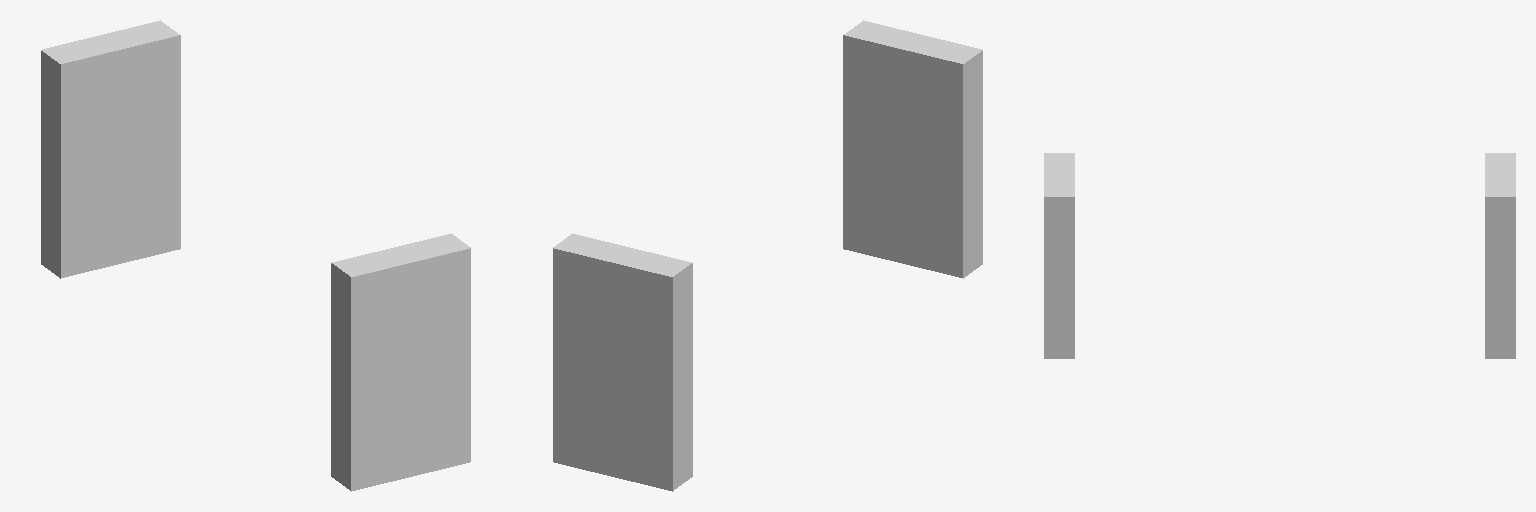
The robot description file, URDF, robot "robotiq_arg2f_85_model":
<?xml version="1.0" ?>
<!-- =================================================================================== -->
<!-- |    This document was autogenerated by xacro from urdf/robotiq_arg2f_85_model.xacro | -->
<!-- |    EDITING THIS FILE BY HAND IS NOT RECOMMENDED                                 | -->
<!-- =================================================================================== -->
<robot name="robotiq_arg2f_85_model">
  <link name="robotiq_arg2f_base_link">
    <inertial>
      <origin rpy="0 0 0" xyz="8.625E-08 -4.6583E-06 0.03145"/>
      <mass value="0.22652"/>
      <inertia ixx="0.00020005" ixy="-4.2442E-10" ixz="-2.9069E-10" iyy="0.00017832" iyz="-3.4402E-08" izz="0.00013478"/>
    </inertial>
    <visual>
      <origin rpy="0 0 0" xyz="0 0 0"/>
      <geometry>
        <mesh filename="package://robotiq_2f_85_gripper_visualization/meshes/visual/robotiq_arg2f_85_base_link.dae" scale="0.001 0.001 0.001"/>
      </geometry>
      <material name="">
        <color rgba="0.1 0.1 0.1 1"/>
      </material>
    </visual>
    <collision>
      <origin rpy="0 0 0" xyz="0 0 0"/>
      <geometry>
        <mesh filename="package://robotiq_2f_85_gripper_visualization/meshes/collision/robotiq_arg2f_base_link.stl"/>
      </geometry>
    </collision>
  </link>
  <link name="left_outer_knuckle">
    <!--<inertial>
        <origin xyz="-0.000200000000003065 0.0199435877845359 0.0292245259211331" rpy="0 0 0" />
        <mass value="0.00853198276973456" />
        <inertia ixx="2.89328108496468E-06" ixy="-1.57935047237397E-19" ixz="-1.93980378593255E-19" iyy="1.86719750325683E-06" iyz="-1.21858577871576E-06" izz="1.21905238907251E-06" />
        </inertial> -->
    <visual>
      <origin rpy="0 0 0" xyz="0 0 0"/>
      <geometry>
        <mesh filename="package://robotiq_2f_85_gripper_visualization/meshes/visual/robotiq_arg2f_85_outer_knuckle.dae" scale="0.001 0.001 0.001"/>
      </geometry>
      <material name="">
        <color rgba="0.792156862745098 0.819607843137255 0.933333333333333 1"/>
      </material>
    </visual>
    <collision>
      <origin rpy="0 0 0" xyz="0 0 0"/>
      <geometry>
        <mesh filename="package://robotiq_2f_85_gripper_visualization/meshes/collision/robotiq_arg2f_85_outer_knuckle.dae" scale="0.001 0.001 0.001"/>
      </geometry>
    </collision>
  </link>
  <link name="left_outer_finger">
    <!--<inertial>
        <origin xyz="0.00030115855001899 0.0373907951953854 -0.0208027427000385" rpy="0 0 0" />
        <mass value="0.022614240507152" />
        <inertia ixx="1.52518312458174E-05" ixy="9.76583423954399E-10" ixz="-5.43838577022588E-10" iyy="6.17694243867776E-06" iyz="6.78636130740228E-06" izz="1.16494917907219E-05" />
        </inertial> -->
    <visual>
      <origin rpy="0 0 0" xyz="0 0 0"/>
      <geometry>
        <mesh filename="package://robotiq_2f_85_gripper_visualization/meshes/visual/robotiq_arg2f_85_outer_finger.dae" scale="0.001 0.001 0.001"/>
      </geometry>
      <material name="">
        <color rgba="0.1 0.1 0.1 1"/>
      </material>
    </visual>
    <collision>
      <origin rpy="0 0 0" xyz="0 0 0"/>
      <geometry>
        <mesh filename="package://robotiq_2f_85_gripper_visualization/meshes/collision/robotiq_arg2f_85_outer_finger.dae" scale="0.001 0.001 0.001"/>
      </geometry>
    </collision>
  </link>
  <link name="left_inner_finger">
    <!--<inertial>
        <origin xyz="0.000299999999999317 0.0160078233491243 -0.0136945669206257" rpy="0 0 0" />
        <mass value="0.0104003125914103" />
        <inertia ixx="2.71909453810972E-06" ixy="1.35402465472579E-21" ixz="-7.1817349065269E-22" iyy="7.69100314106116E-07" iyz="6.74715432769696E-07" izz="2.30315190420171E-06" />
        </inertial> -->
    <visual>
      <origin rpy="0 0 0" xyz="0 0 0"/>
      <geometry>
        <mesh filename="package://robotiq_2f_85_gripper_visualization/meshes/visual/robotiq_arg2f_85_inner_finger.dae" scale="0.001 0.001 0.001"/>
      </geometry>
      <material name="">
        <color rgba="0.1 0.1 0.1 1"/>
      </material>
    </visual>
    <collision>
      <origin rpy="0 0 0" xyz="0 0 0"/>
      <geometry>
        <mesh filename="package://robotiq_2f_85_gripper_visualization/meshes/collision/robotiq_arg2f_85_inner_finger.dae" scale="0.001 0.001 0.001"/>
      </geometry>
    </collision>
  </link>
  <link name="left_inner_finger_pad">
    <visual>
      <origin rpy="0 0 0" xyz="0 0 0"/>
      <geometry>
        <box size="0.022 0.00635 0.0375"/>
      </geometry>
      <material name="">
        <color rgba="0.9 0.9 0.9 1"/>
      </material>
    </visual>
    <collision>
      <origin rpy="0 0 0" xyz="0 0 0"/>
      <geometry>
        <box size="0.022 0.00635 0.0375"/>
      </geometry>
      <material name="">
        <color rgba="0.9 0.0 0.0 1"/>
      </material>
    </collision>
  </link>
  <link name="left_inner_knuckle">
    <!--<inertial>
        <origin xyz="0.000123011831763771 0.0507850843201817 0.00103968640075166" rpy="0 0 0" />
       <mass value="0.0271177346495152" />
        <inertia ixx="2.61910379223783E-05" ixy="-2.43616858946494E-07" ixz="-6.37789906117123E-09" iyy="2.8270243746167E-06" iyz="-5.37200748039765E-07" izz="2.83695868220296E-05" />
        </inertial> -->
    <visual>
      <origin rpy="0 0 0" xyz="0 0 0"/>
      <geometry>
        <mesh filename="package://robotiq_2f_85_gripper_visualization/meshes/visual/robotiq_arg2f_85_inner_knuckle.dae" scale="0.001 0.001 0.001"/>
      </geometry>
      <material name="">
        <color rgba="0.1 0.1 0.1 1"/>
      </material>
    </visual>
    <collision>
      <origin rpy="0 0 0" xyz="0 0 0"/>
      <geometry>
        <mesh filename="package://robotiq_2f_85_gripper_visualization/meshes/collision/robotiq_arg2f_85_inner_knuckle.dae" scale="0.001 0.001 0.001"/>
      </geometry>
    </collision>
  </link>
  <link name="right_outer_knuckle">
    <!--<inertial>
        <origin xyz="-0.000200000000003065 0.0199435877845359 0.0292245259211331" rpy="0 0 0" />
        <mass value="0.00853198276973456" />
        <inertia ixx="2.89328108496468E-06" ixy="-1.57935047237397E-19" ixz="-1.93980378593255E-19" iyy="1.86719750325683E-06" iyz="-1.21858577871576E-06" izz="1.21905238907251E-06" />
        </inertial> -->
    <visual>
      <origin rpy="0 0 0" xyz="0 0 0"/>
      <geometry>
        <mesh filename="package://robotiq_2f_85_gripper_visualization/meshes/visual/robotiq_arg2f_85_outer_knuckle.dae" scale="0.001 0.001 0.001"/>
      </geometry>
      <material name="">
        <color rgba="0.792156862745098 0.819607843137255 0.933333333333333 1"/>
      </material>
    </visual>
    <collision>
      <origin rpy="0 0 0" xyz="0 0 0"/>
      <geometry>
        <mesh filename="package://robotiq_2f_85_gripper_visualization/meshes/collision/robotiq_arg2f_85_outer_knuckle.dae" scale="0.001 0.001 0.001"/>
      </geometry>
    </collision>
  </link>
  <link name="right_outer_finger">
    <!--<inertial>
        <origin xyz="0.00030115855001899 0.0373907951953854 -0.0208027427000385" rpy="0 0 0" />
        <mass value="0.022614240507152" />
        <inertia ixx="1.52518312458174E-05" ixy="9.76583423954399E-10" ixz="-5.43838577022588E-10" iyy="6.17694243867776E-06" iyz="6.78636130740228E-06" izz="1.16494917907219E-05" />
        </inertial> -->
    <visual>
      <origin rpy="0 0 0" xyz="0 0 0"/>
      <geometry>
        <mesh filename="package://robotiq_2f_85_gripper_visualization/meshes/visual/robotiq_arg2f_85_outer_finger.dae" scale="0.001 0.001 0.001"/>
      </geometry>
      <material name="">
        <color rgba="0.1 0.1 0.1 1"/>
      </material>
    </visual>
    <collision>
      <origin rpy="0 0 0" xyz="0 0 0"/>
      <geometry>
        <mesh filename="package://robotiq_2f_85_gripper_visualization/meshes/collision/robotiq_arg2f_85_outer_finger.dae" scale="0.001 0.001 0.001"/>
      </geometry>
    </collision>
  </link>
  <link name="right_inner_finger">
    <!--<inertial>
        <origin xyz="0.000299999999999317 0.0160078233491243 -0.0136945669206257" rpy="0 0 0" />
        <mass value="0.0104003125914103" />
        <inertia ixx="2.71909453810972E-06" ixy="1.35402465472579E-21" ixz="-7.1817349065269E-22" iyy="7.69100314106116E-07" iyz="6.74715432769696E-07" izz="2.30315190420171E-06" />
        </inertial> -->
    <visual>
      <origin rpy="0 0 0" xyz="0 0 0"/>
      <geometry>
        <mesh filename="package://robotiq_2f_85_gripper_visualization/meshes/visual/robotiq_arg2f_85_inner_finger.dae" scale="0.001 0.001 0.001"/>
      </geometry>
      <material name="">
        <color rgba="0.1 0.1 0.1 1"/>
      </material>
    </visual>
    <collision>
      <origin rpy="0 0 0" xyz="0 0 0"/>
      <geometry>
        <mesh filename="package://robotiq_2f_85_gripper_visualization/meshes/collision/robotiq_arg2f_85_inner_finger.dae" scale="0.001 0.001 0.001"/>
      </geometry>
    </collision>
  </link>
  <link name="right_inner_finger_pad">
    <visual>
      <origin rpy="0 0 0" xyz="0 0 0"/>
      <geometry>
        <box size="0.022 0.00635 0.0375"/>
      </geometry>
      <material name="">
        <color rgba="0.9 0.9 0.9 1"/>
      </material>
    </visual>
    <collision>
      <origin rpy="0 0 0" xyz="0 0 0"/>
      <geometry>
        <box size="0.022 0.00635 0.0375"/>
      </geometry>
      <material name="">
        <color rgba="0.9 0.0 0.0 1"/>
      </material>
    </collision>
  </link>
  <link name="right_inner_knuckle">
    <!--<inertial>
        <origin xyz="0.000123011831763771 0.0507850843201817 0.00103968640075166" rpy="0 0 0" />
       <mass value="0.0271177346495152" />
        <inertia ixx="2.61910379223783E-05" ixy="-2.43616858946494E-07" ixz="-6.37789906117123E-09" iyy="2.8270243746167E-06" iyz="-5.37200748039765E-07" izz="2.83695868220296E-05" />
        </inertial> -->
    <visual>
      <origin rpy="0 0 0" xyz="0 0 0"/>
      <geometry>
        <mesh filename="package://robotiq_2f_85_gripper_visualization/meshes/visual/robotiq_arg2f_85_inner_knuckle.dae" scale="0.001 0.001 0.001"/>
      </geometry>
      <material name="">
        <color rgba="0.1 0.1 0.1 1"/>
      </material>
    </visual>
    <collision>
      <origin rpy="0 0 0" xyz="0 0 0"/>
      <geometry>
        <mesh filename="package://robotiq_2f_85_gripper_visualization/meshes/collision/robotiq_arg2f_85_inner_knuckle.dae" scale="0.001 0.001 0.001"/>
      </geometry>
    </collision>
  </link>
  <joint name="finger_joint" type="revolute">
    <origin rpy="0 0 3.141592653589793" xyz="0 -0.0306011 0.054904"/>
    <parent link="robotiq_arg2f_base_link"/>
    <child link="left_outer_knuckle"/>
    <axis xyz="1 0 0"/>
    <limit effort="1000" lower="0" upper="0.8" velocity="2.0"/>
  </joint>
  <joint name="left_outer_finger_joint" type="fixed">
    <origin rpy="0 0 0" xyz="0 0.0315 -0.0041"/>
    <parent link="left_outer_knuckle"/>
    <child link="left_outer_finger"/>
    <axis xyz="1 0 0"/>
  </joint>
  <joint name="left_inner_knuckle_joint" type="revolute">
    <!-- <origin xyz="0 ${reflect * -0.0127} 0.06142" rpy="${pi / 2 + .725} 0 ${(reflect - 1) * pi / 2}" /> -->
    <origin rpy="0 0 3.141592653589793" xyz="0 -0.0127 0.06142"/>
    <parent link="robotiq_arg2f_base_link"/>
    <child link="left_inner_knuckle"/>
    <axis xyz="1 0 0"/>
    <limit effort="1000" lower="0" upper="0.8757" velocity="2.0"/>
    <mimic joint="finger_joint" multiplier="1" offset="0"/>
  </joint>
  <joint name="left_inner_finger_joint" type="revolute">
    <origin rpy="0 0 0" xyz="0 0.0061 0.0471"/>
    <parent link="left_outer_finger"/>
    <child link="left_inner_finger"/>
    <axis xyz="1 0 0"/>
    <limit effort="1000" lower="0" upper="0.8757" velocity="2.0"/>
    <mimic joint="finger_joint" multiplier="-1" offset="0"/>
  </joint>
  <joint name="left_inner_finger_pad_joint" type="fixed">
    <origin rpy="0 0 0" xyz="0 -0.0220203446692936 0.03242"/>
    <parent link="left_inner_finger"/>
    <child link="left_inner_finger_pad"/>
    <axis xyz="0 0 1"/>
  </joint>
  <joint name="right_outer_knuckle_joint" type="revolute">
    <origin rpy="0 0 0" xyz="0 0.0306011 0.054904"/>
    <parent link="robotiq_arg2f_base_link"/>
    <child link="right_outer_knuckle"/>
    <axis xyz="1 0 0"/>
    <limit effort="1000" lower="0" upper="0.81" velocity="2.0"/>
    <mimic joint="finger_joint" multiplier="1" offset="0"/>
  </joint>
  <joint name="right_outer_finger_joint" type="fixed">
    <origin rpy="0 0 0" xyz="0 0.0315 -0.0041"/>
    <parent link="right_outer_knuckle"/>
    <child link="right_outer_finger"/>
    <axis xyz="1 0 0"/>
  </joint>
  <joint name="right_inner_knuckle_joint" type="revolute">
    <!-- <origin xyz="0 ${reflect * -0.0127} 0.06142" rpy="${pi / 2 + .725} 0 ${(reflect - 1) * pi / 2}" /> -->
    <origin rpy="0 0 0.0" xyz="0 0.0127 0.06142"/>
    <parent link="robotiq_arg2f_base_link"/>
    <child link="right_inner_knuckle"/>
    <axis xyz="1 0 0"/>
    <limit effort="1000" lower="0" upper="0.8757" velocity="2.0"/>
    <mimic joint="finger_joint" multiplier="1" offset="0"/>
  </joint>
  <joint name="right_inner_finger_joint" type="revolute">
    <origin rpy="0 0 0" xyz="0 0.0061 0.0471"/>
    <parent link="right_outer_finger"/>
    <child link="right_inner_finger"/>
    <axis xyz="1 0 0"/>
    <limit effort="1000" lower="0" upper="0.8757" velocity="2.0"/>
    <mimic joint="finger_joint" multiplier="-1" offset="0"/>
  </joint>
  <joint name="right_inner_finger_pad_joint" type="fixed">
    <origin rpy="0 0 0" xyz="0 -0.0220203446692936 0.03242"/>
    <parent link="right_inner_finger"/>
    <child link="right_inner_finger_pad"/>
    <axis xyz="0 0 1"/>
  </joint>
  <link name="world"/>
  <!-- This joint is used for correcting the inertial value in the pybullet -->
  <joint name="world_2_base" type="fixed">
    <origin rpy="0 0 0" xyz="0. 0. 0."/>
    <parent link="world"/>
    <child link="robotiq_arg2f_base_link"/>
    <axis xyz="0 0 1"/>
  </joint>
  <transmission name="finger_joint_trans">
    <type>transmission_interface/SimpleTransmission</type>
    <joint name="finger_joint">
      <hardwareInterface>PositionJointInterface</hardwareInterface>
    </joint>
    <actuator name="finger_joint_motor">
      <mechanicalReduction>1</mechanicalReduction>
    </actuator>
  </transmission>
</robot>

--- Render facts (derived) ---
The picture shows the robot from 3 angles, left to right: view 1: azimuth 30°, elevation 25°; view 2: azimuth 150°, elevation 25°; view 3: azimuth 270°, elevation 25°; orthographic projection.
Robot: robotiq_arg2f_85_model — 12 links, 11 joints (6 revolute, 5 fixed); root link world; default pose: every joint at zero.
Visible links, largest first — view 1: left_inner_finger_pad, right_inner_finger_pad; view 2: left_inner_finger_pad, right_inner_finger_pad; view 3: left_inner_finger_pad, right_inner_finger_pad.
Boxes of the visible links, left/top/right/bottom form: left_inner_finger_pad: left=331, top=233, right=470, bottom=491; right_inner_finger_pad: left=41, top=20, right=180, bottom=278; left_inner_finger_pad: left=843, top=20, right=982, bottom=278; right_inner_finger_pad: left=553, top=233, right=692, bottom=491; left_inner_finger_pad: left=1044, top=153, right=1074, bottom=358; right_inner_finger_pad: left=1485, top=153, right=1515, bottom=358.
Bounding box of the posed robot: 0.022 × 0.0987 × 0.0375 m (x, y, z).
0 mesh visuals loaded from 5 distinct referenced files (none loaded); not drawn: 9 (reference not matched to a file when rendering).